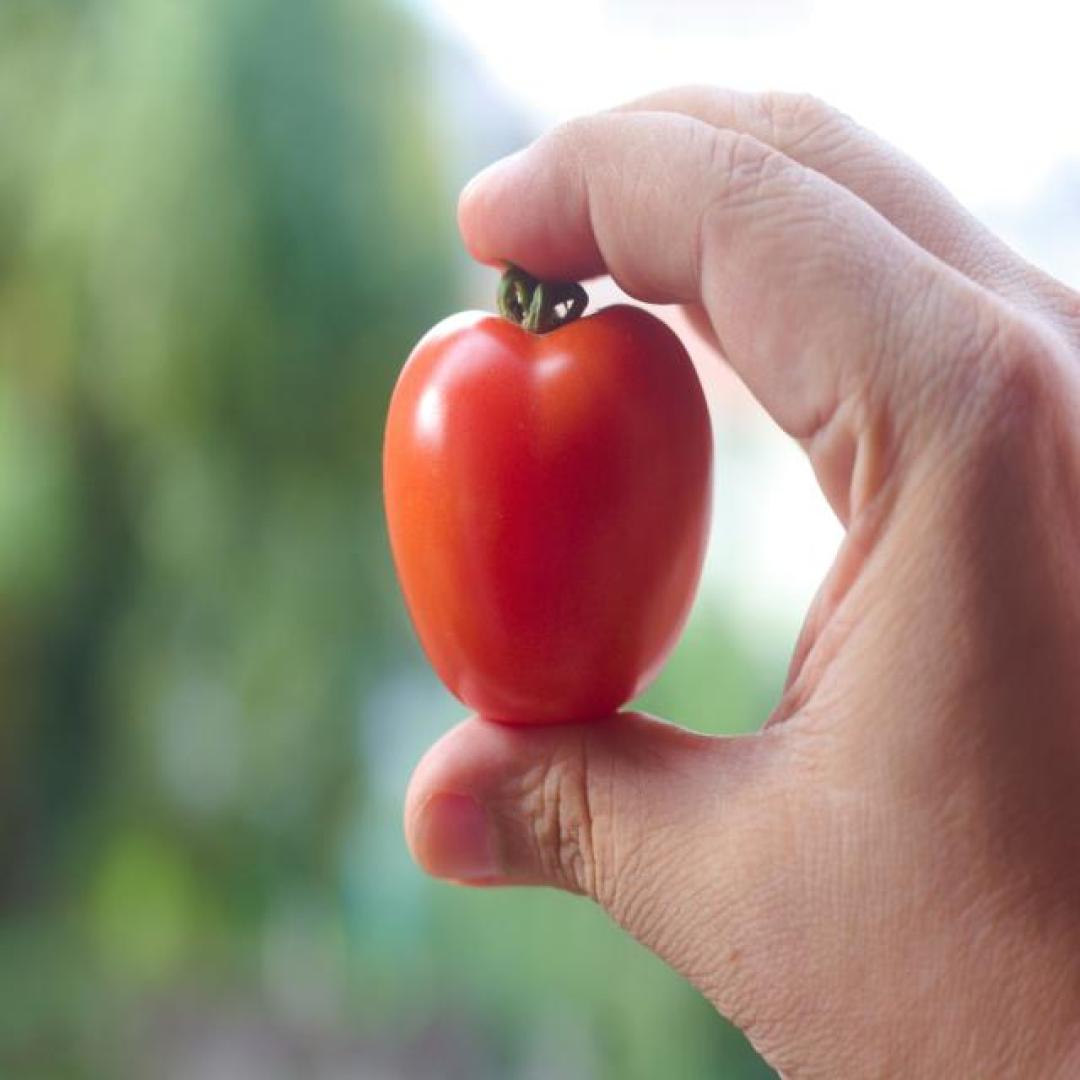matang: (383, 302, 716, 731)
